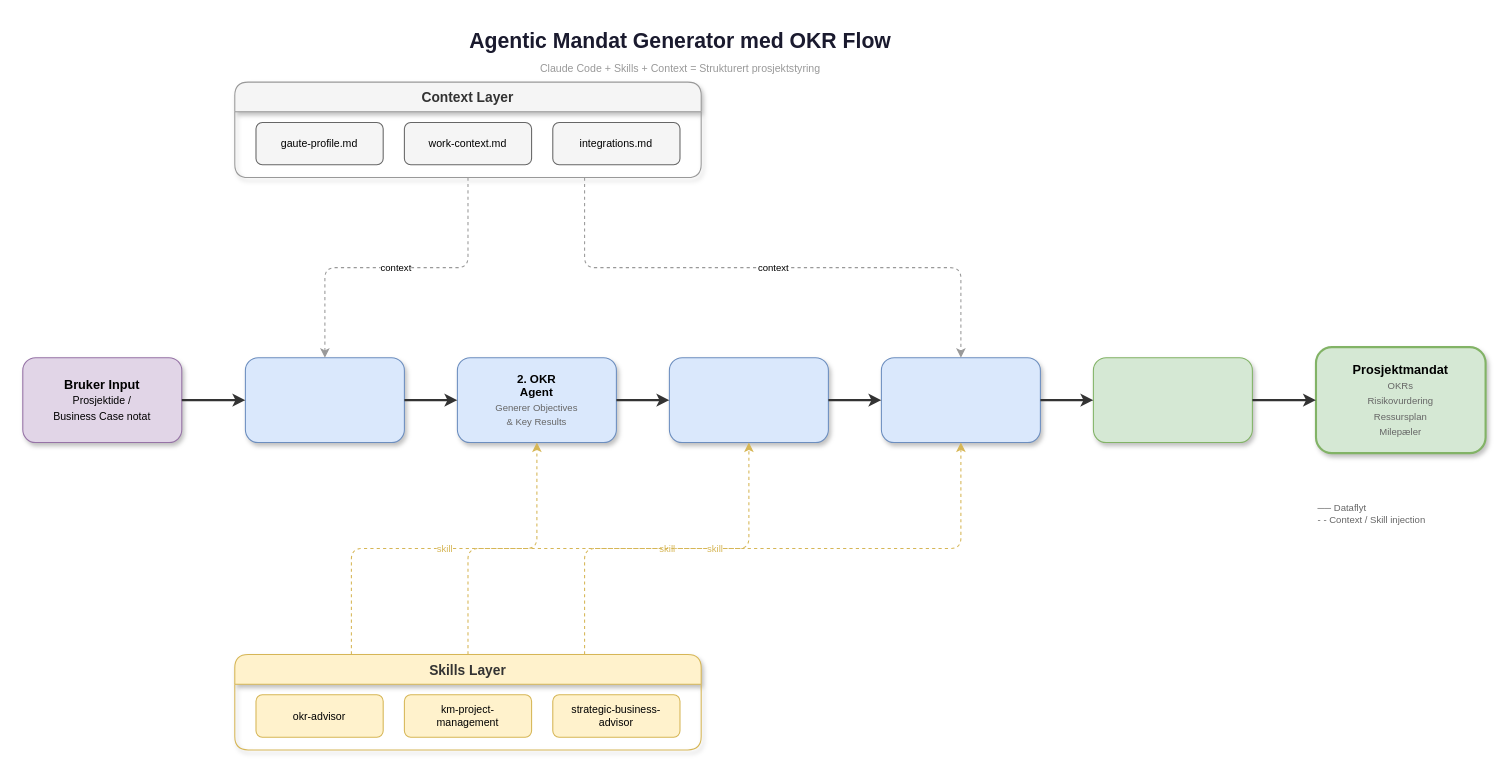
Image size: 1512x776. Some labels were removed from this diagram. Each missing label, with the centre of its shape:
1. Discovery Agent Identifiser prosjekttype, stakeholders, scope: (x=325, y=401)
3. Strategisk Review Agent 6-dimensjons rubrikk, risiko, self-critique: (x=749, y=401)
4. Mandat Generator KM prosjektmandat, ressursplan, milepæler: (x=961, y=401)
5. QA / Review Agent Verifiser fullstendighet, konsistens, kvalitet: (x=1173, y=401)
